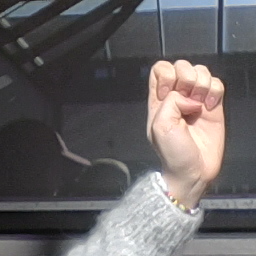E: (144, 58, 228, 180)
